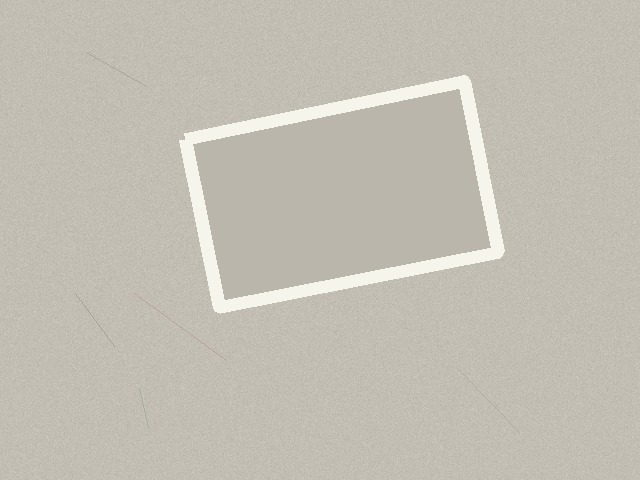parking_area: (185, 81, 498, 307)
